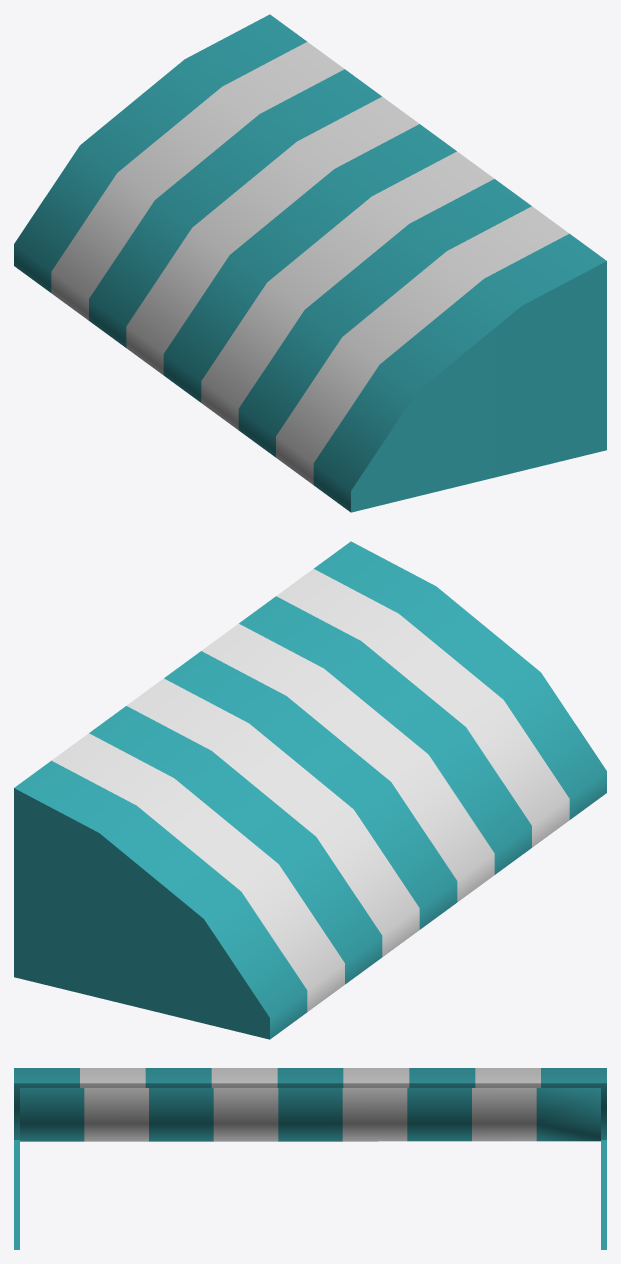
File: Awning_1_N.fbx
3 views of the same model, one above another, from view 1: azimuth 30°, elevation 25°; view 2: azimuth 150°, elevation 25°; view 3: azimuth 270°, elevation 25° (orthographic). The views are drawn at different scales.
Parts seen in each view (by area): view 1: Awning_1_N; view 2: Awning_1_N; view 3: Awning_1_N.
Boxes of the visible parts, box(x1,y1,x2,y2) form: Awning_1_N: box(14, 14, 606, 512); Awning_1_N: box(14, 541, 606, 1039); Awning_1_N: box(14, 1068, 606, 1249).
Size of the model in its own units: 123 by 86.57 by 280.
